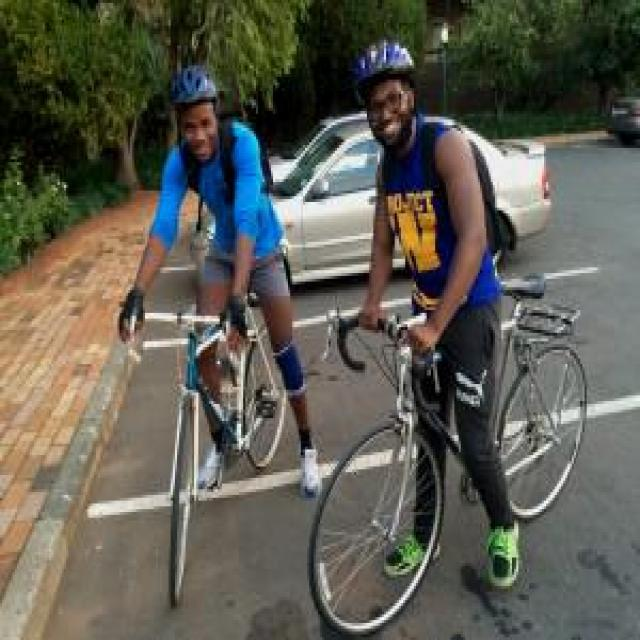bikerider: (297, 17, 595, 637), (94, 63, 322, 600)
